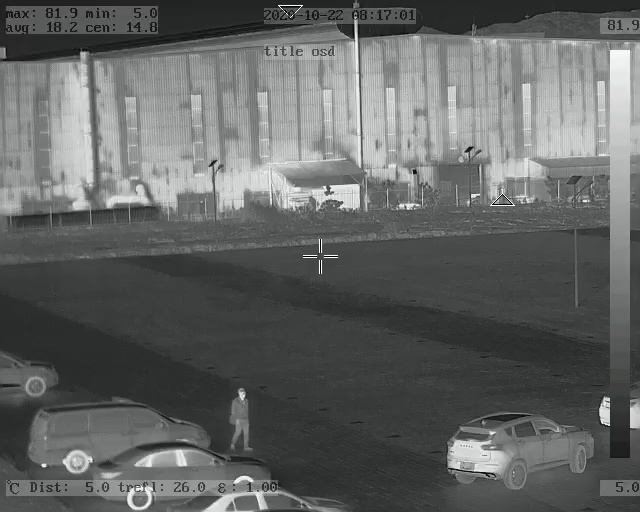person: (229, 388, 253, 450)
vehicle: (440, 411, 602, 491), (97, 444, 272, 508), (181, 480, 341, 510), (1, 347, 60, 400)
